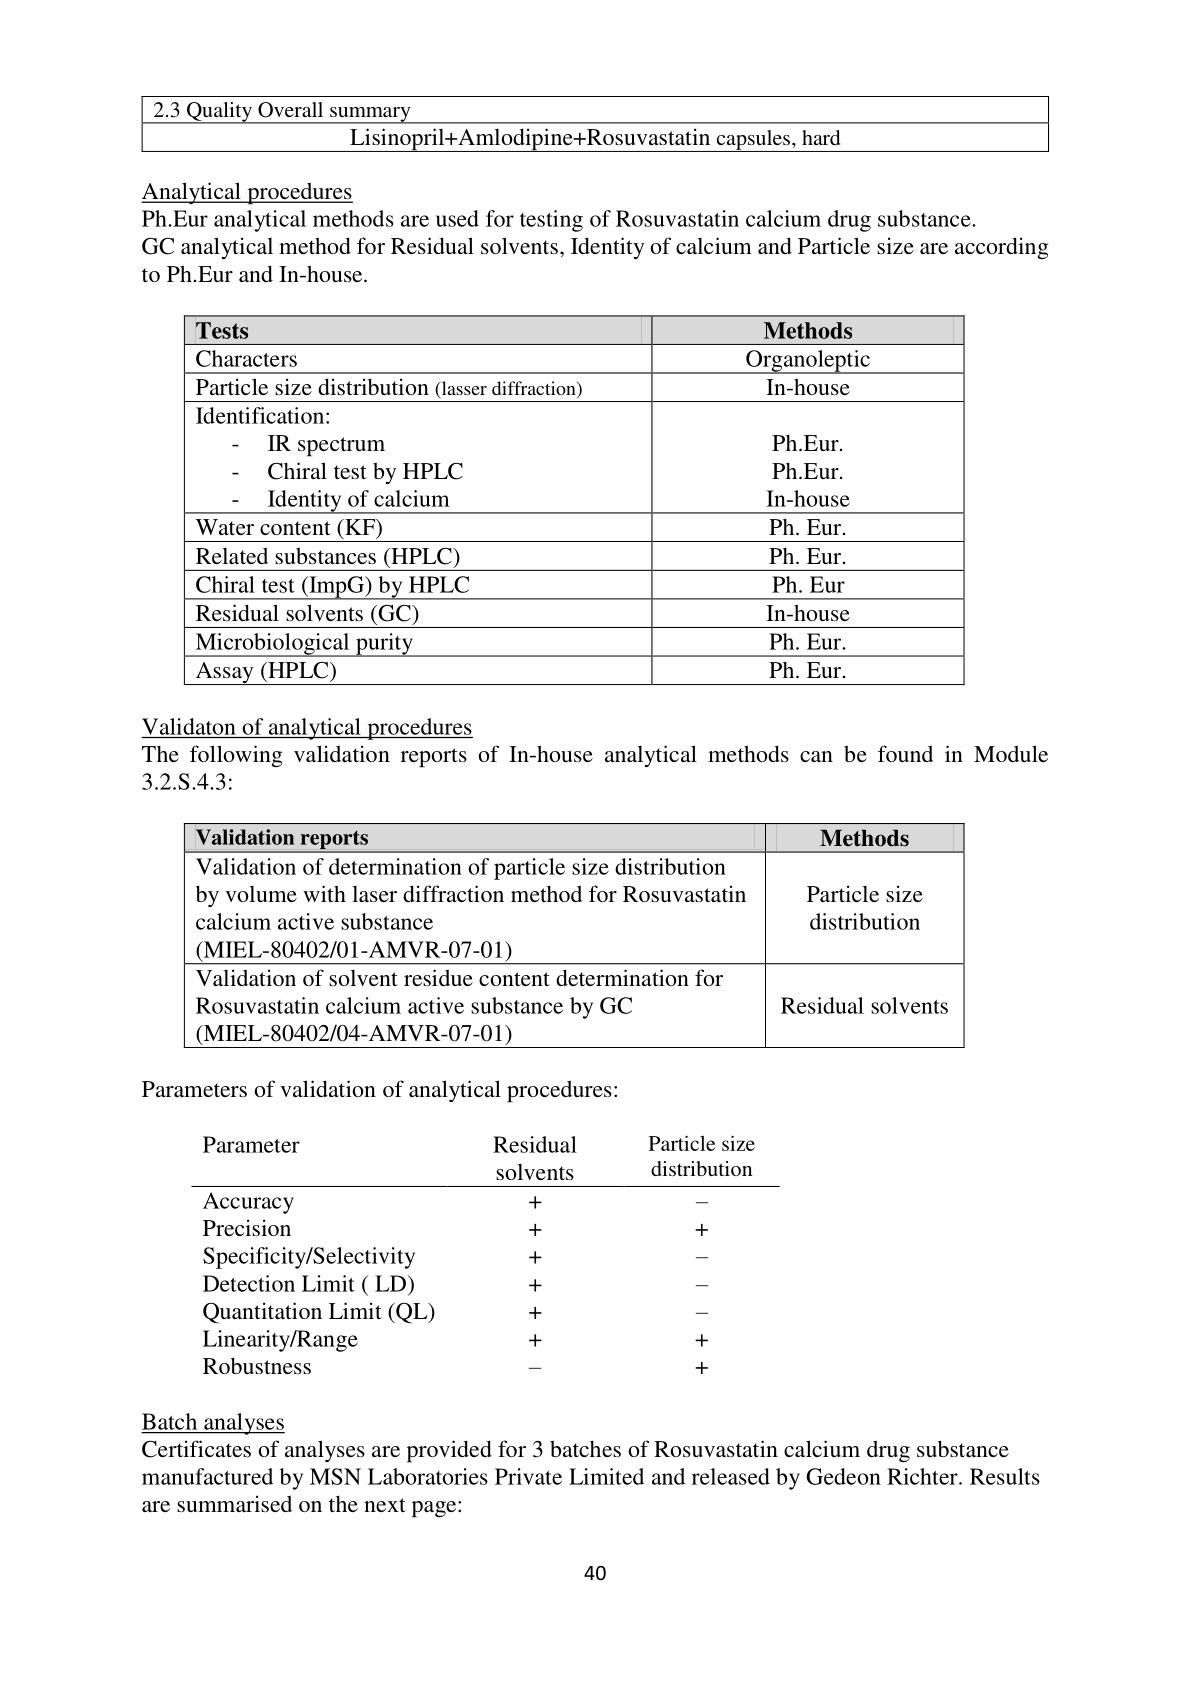full_lined: (182, 320, 968, 685), (184, 826, 965, 1048), (137, 94, 1047, 152)
nolines: (177, 1127, 789, 1389)
